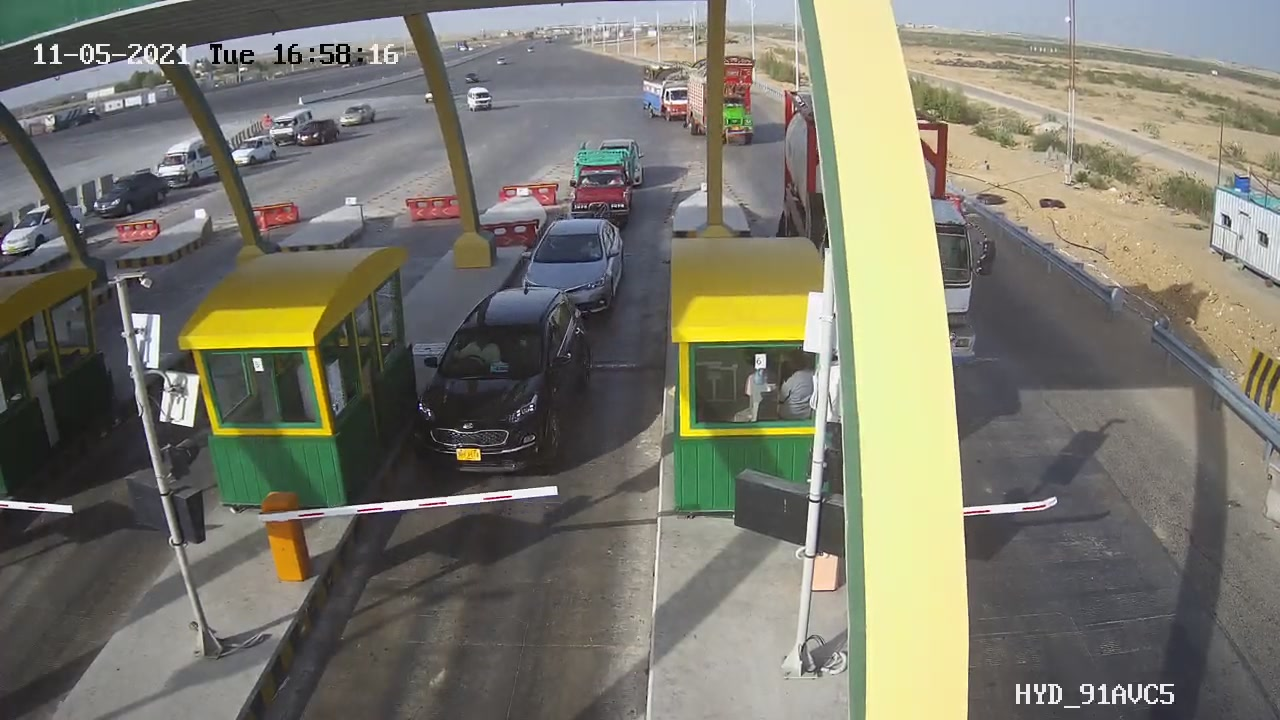F1: (394, 277, 618, 498), (498, 206, 648, 341)
